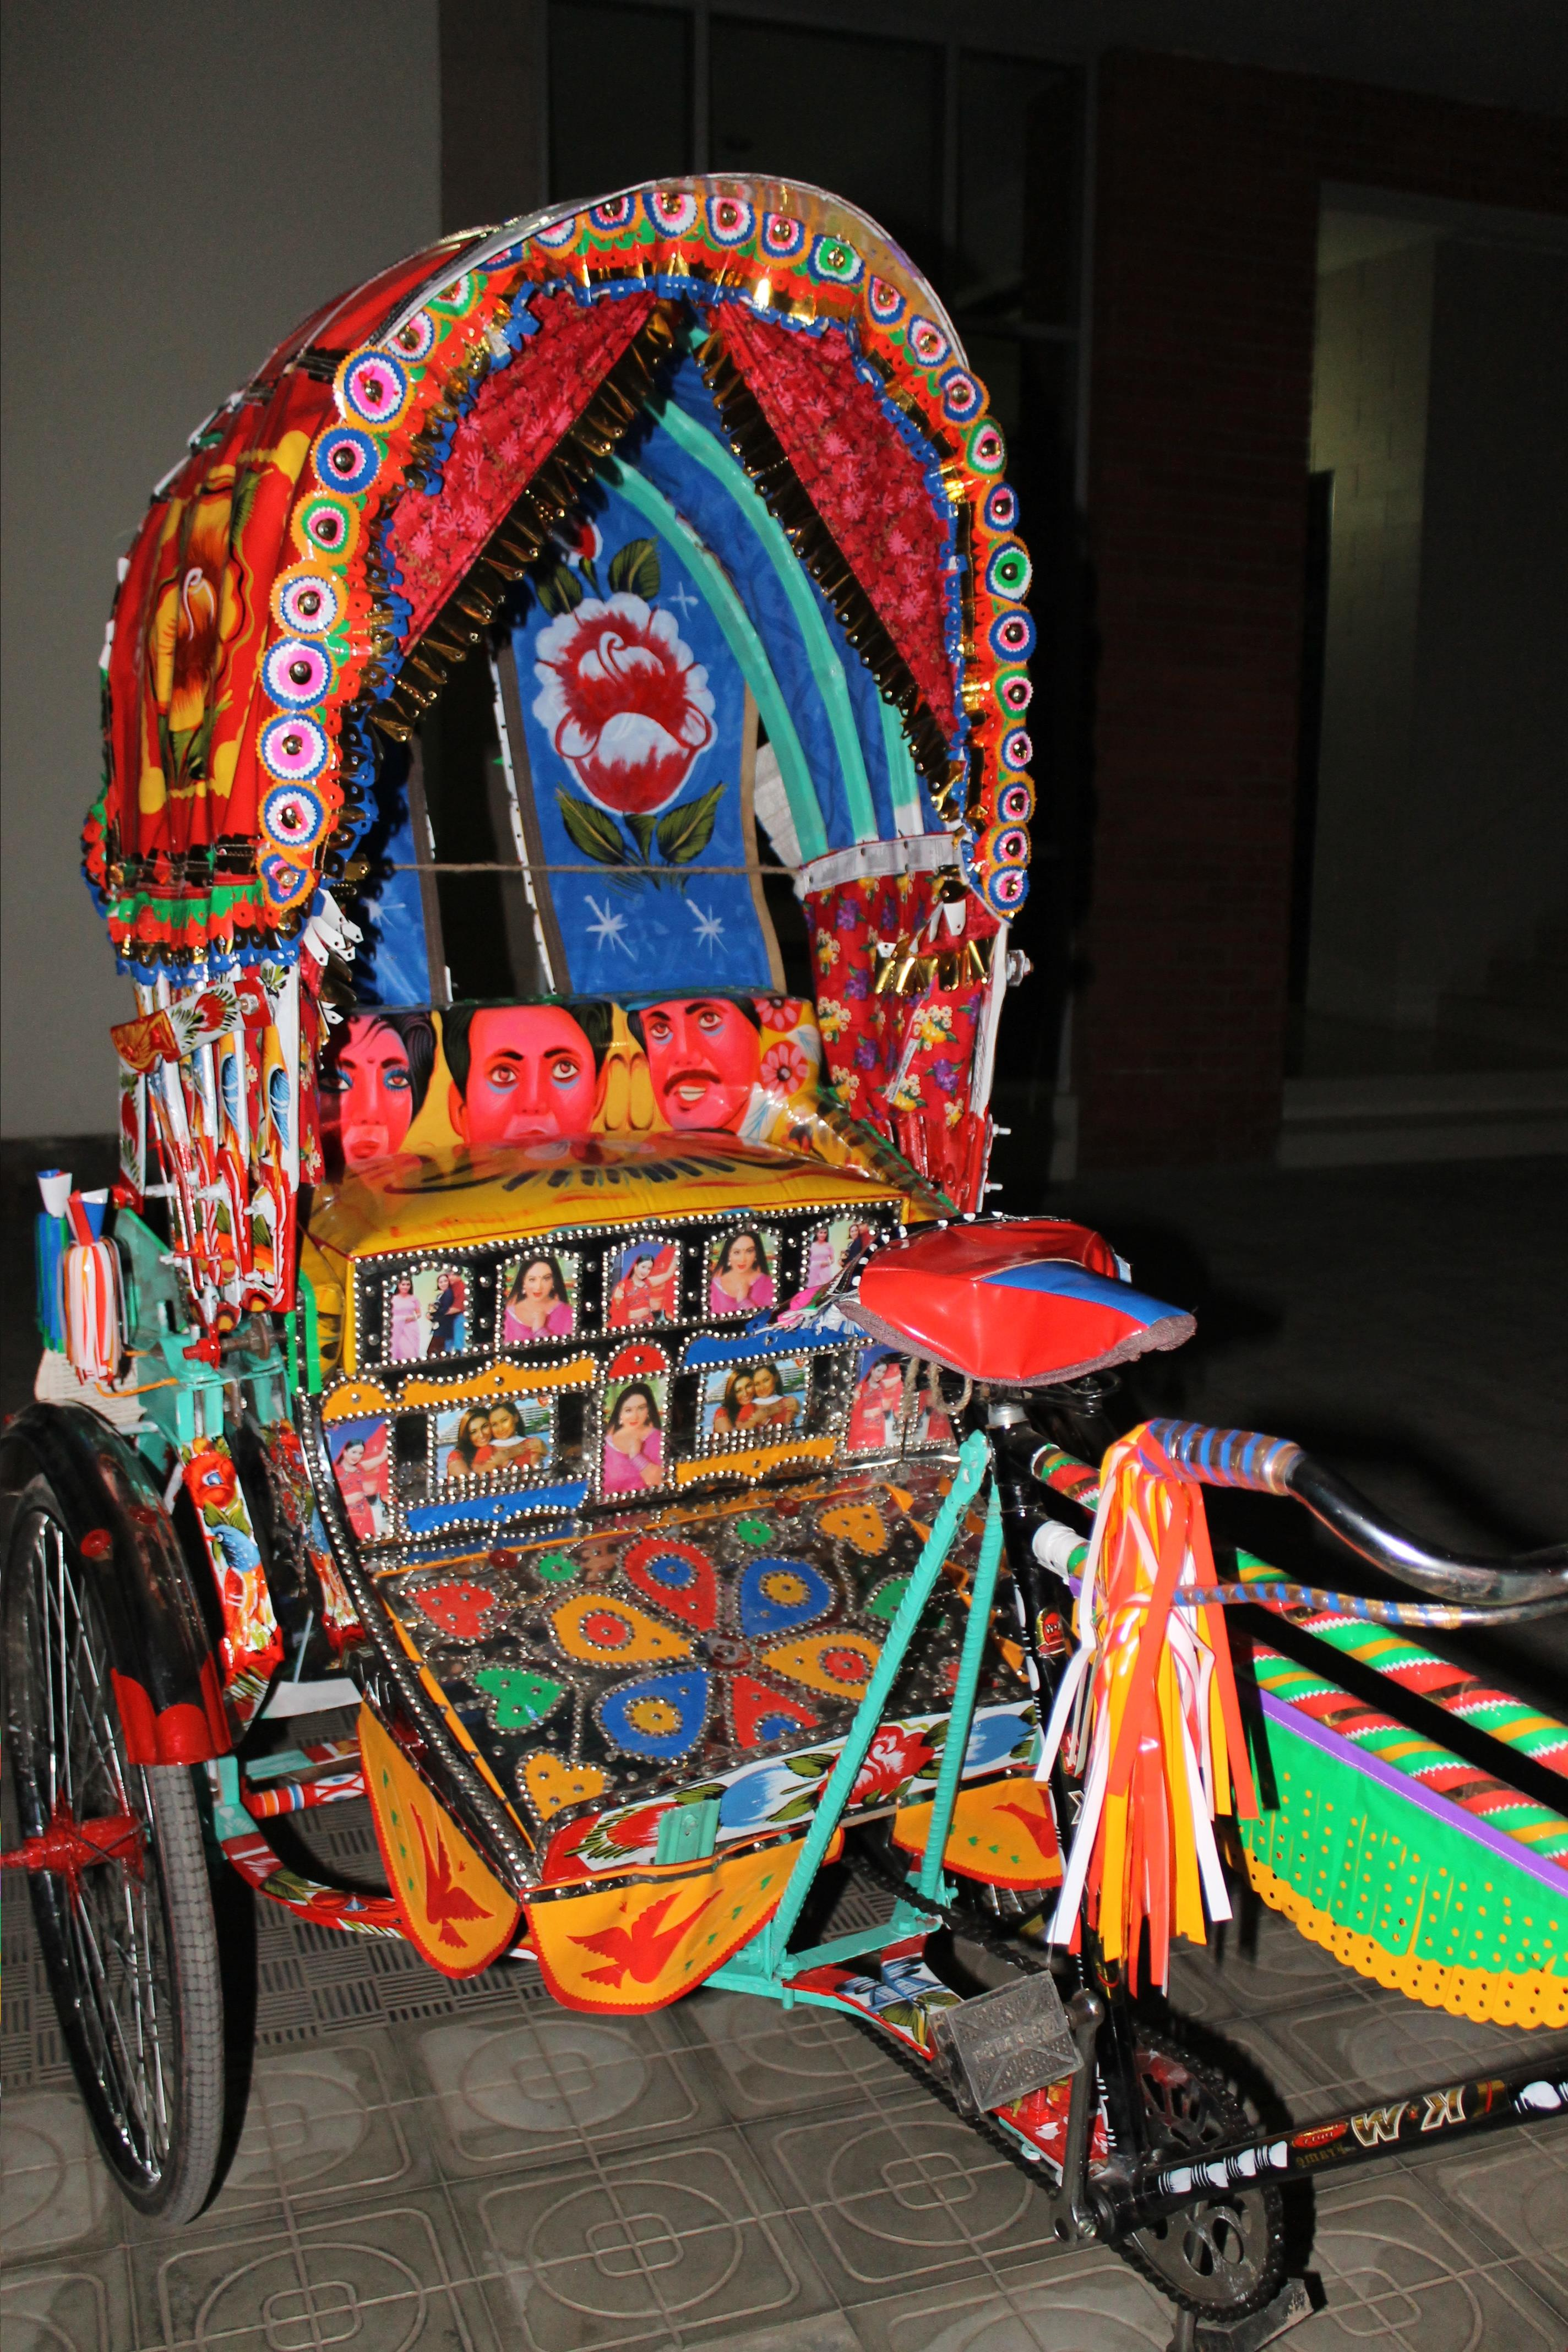Rickshaw: (44, 236, 1533, 2226)
